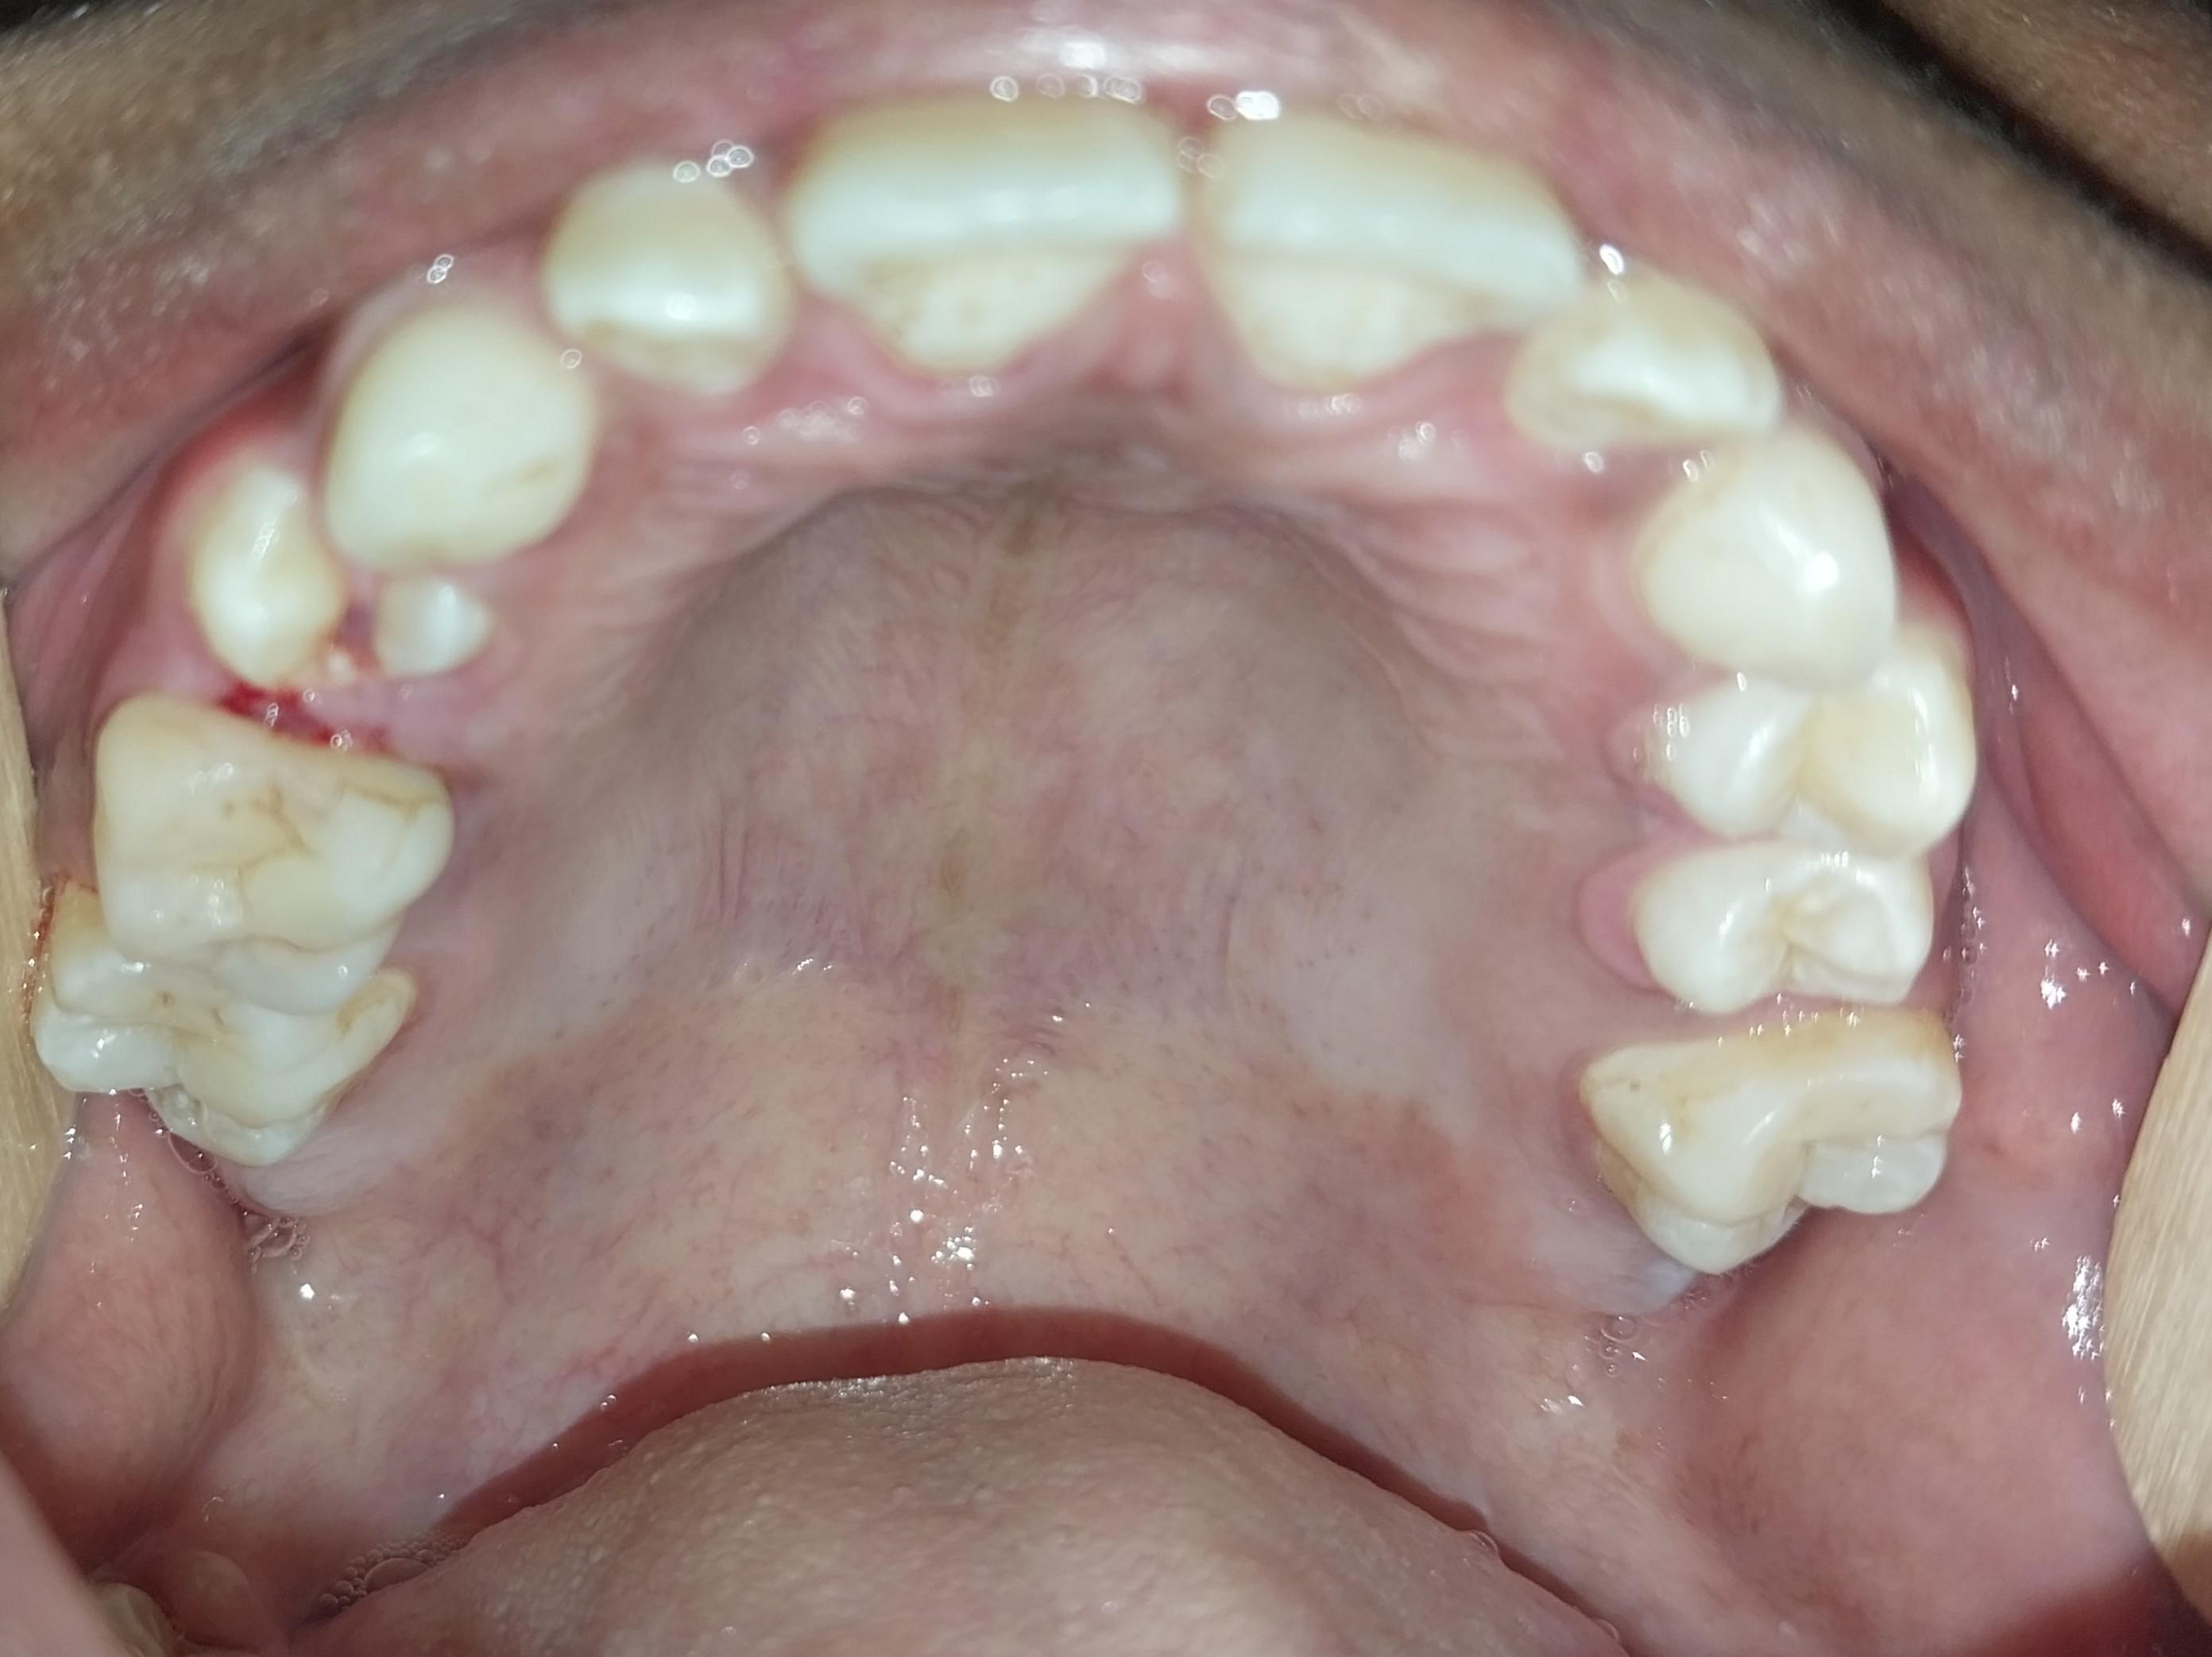D: (31, 879, 419, 1161)
